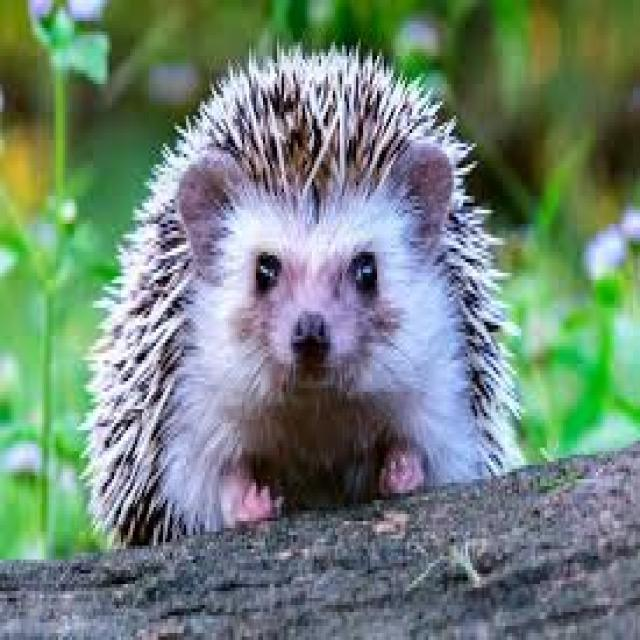Hedgehog: (91, 40, 530, 558)
